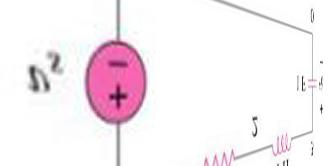inductor: (266, 125, 297, 157)
